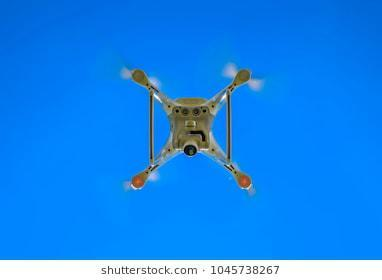drone: (97, 38, 286, 207)
